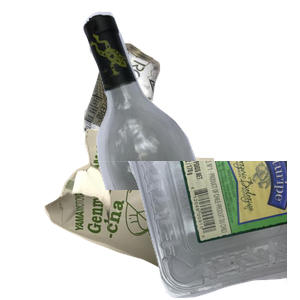glass: (81, 10, 300, 190)
metal: (81, 41, 234, 178)
plastic: (60, 161, 300, 300)
trash: (42, 126, 249, 300)
